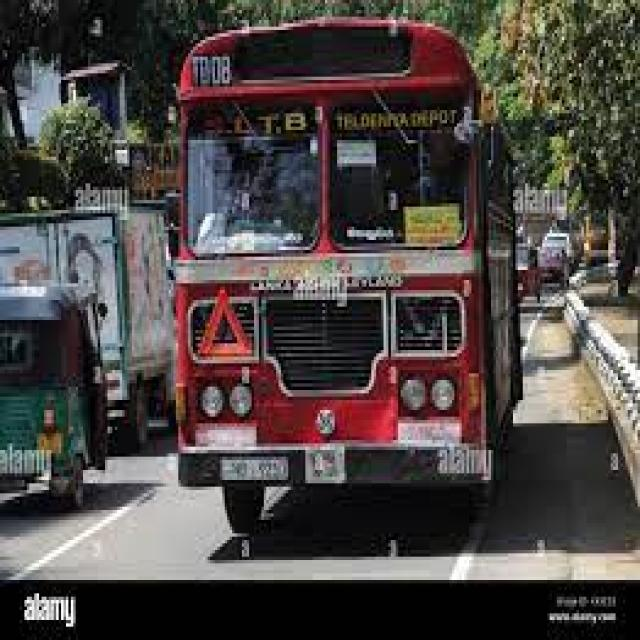bus: (176, 20, 520, 533)
car: (537, 233, 569, 287)
three wheeler: (0, 287, 103, 503), (518, 240, 537, 300)
truck: (0, 193, 171, 450)
